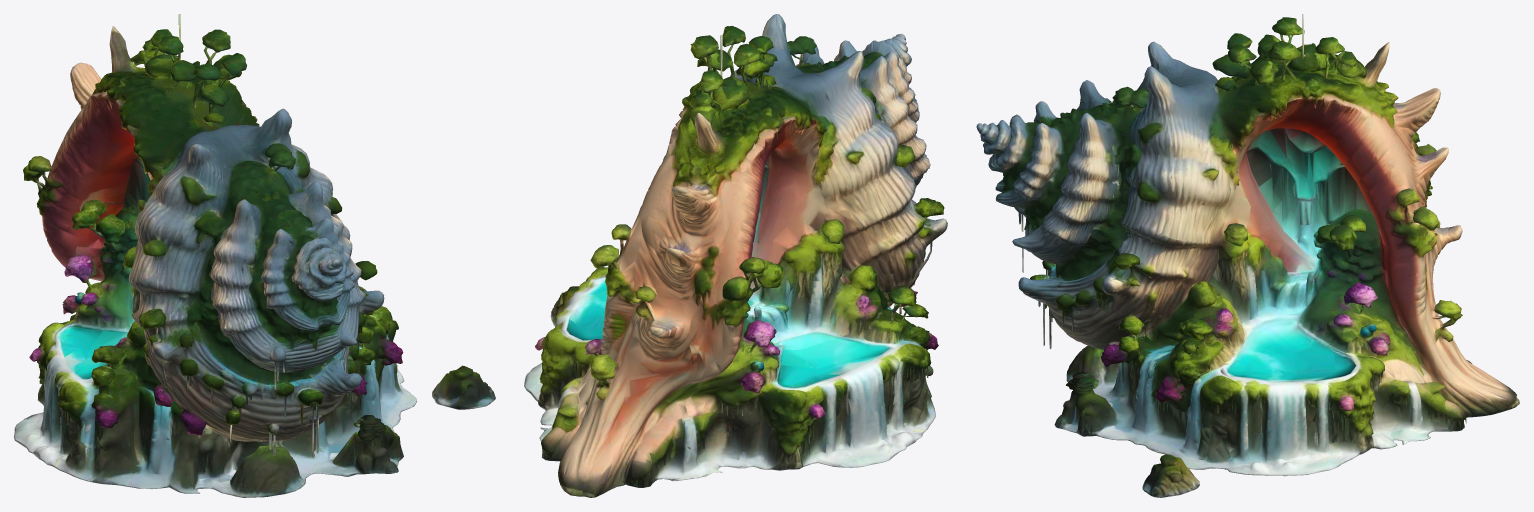
3 renders of one model, left to right at view 1: azimuth 30°, elevation 25°; view 2: azimuth 150°, elevation 25°; view 3: azimuth 270°, elevation 25°, orthographic. The views are drawn at different scales.
Visible parts, largest first — view 1: Untitled_3; view 2: Untitled_3; view 3: Untitled_3.
Boxes of the visible parts, <box> form: Untitled_3: <box>14,14,495,497</box>; Untitled_3: <box>524,14,947,497</box>; Untitled_3: <box>976,14,1519,497</box>.
Size of the model in its own units: 1.67 by 1.51 by 2.
Materials: 1 (1 with a texture image).
